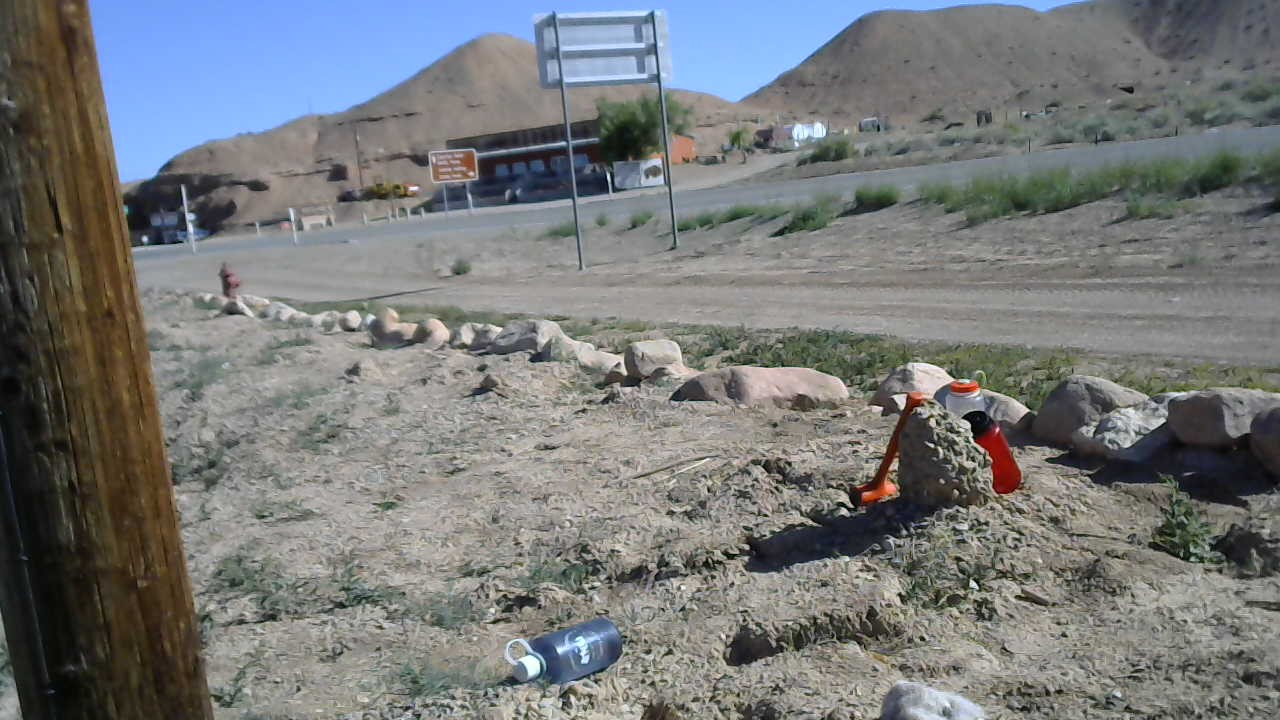bottle: (497, 615, 627, 687), (954, 410, 1026, 496), (937, 369, 990, 418)
hammer: (848, 391, 926, 510)
